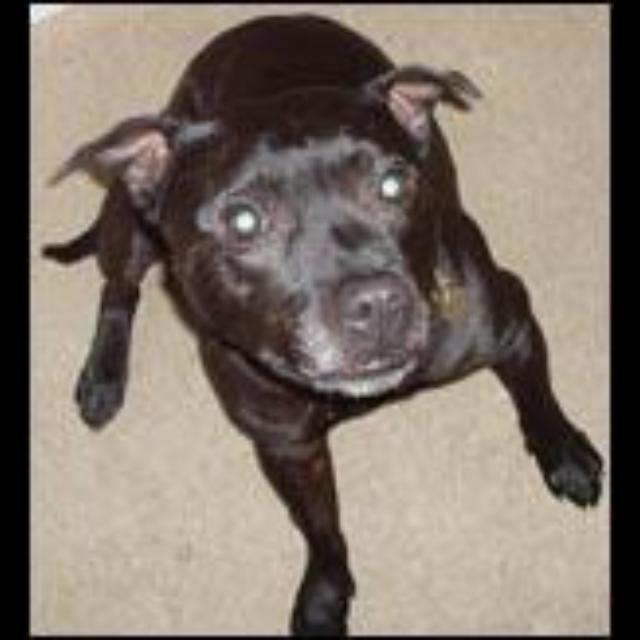staffford: (43, 13, 604, 637)
